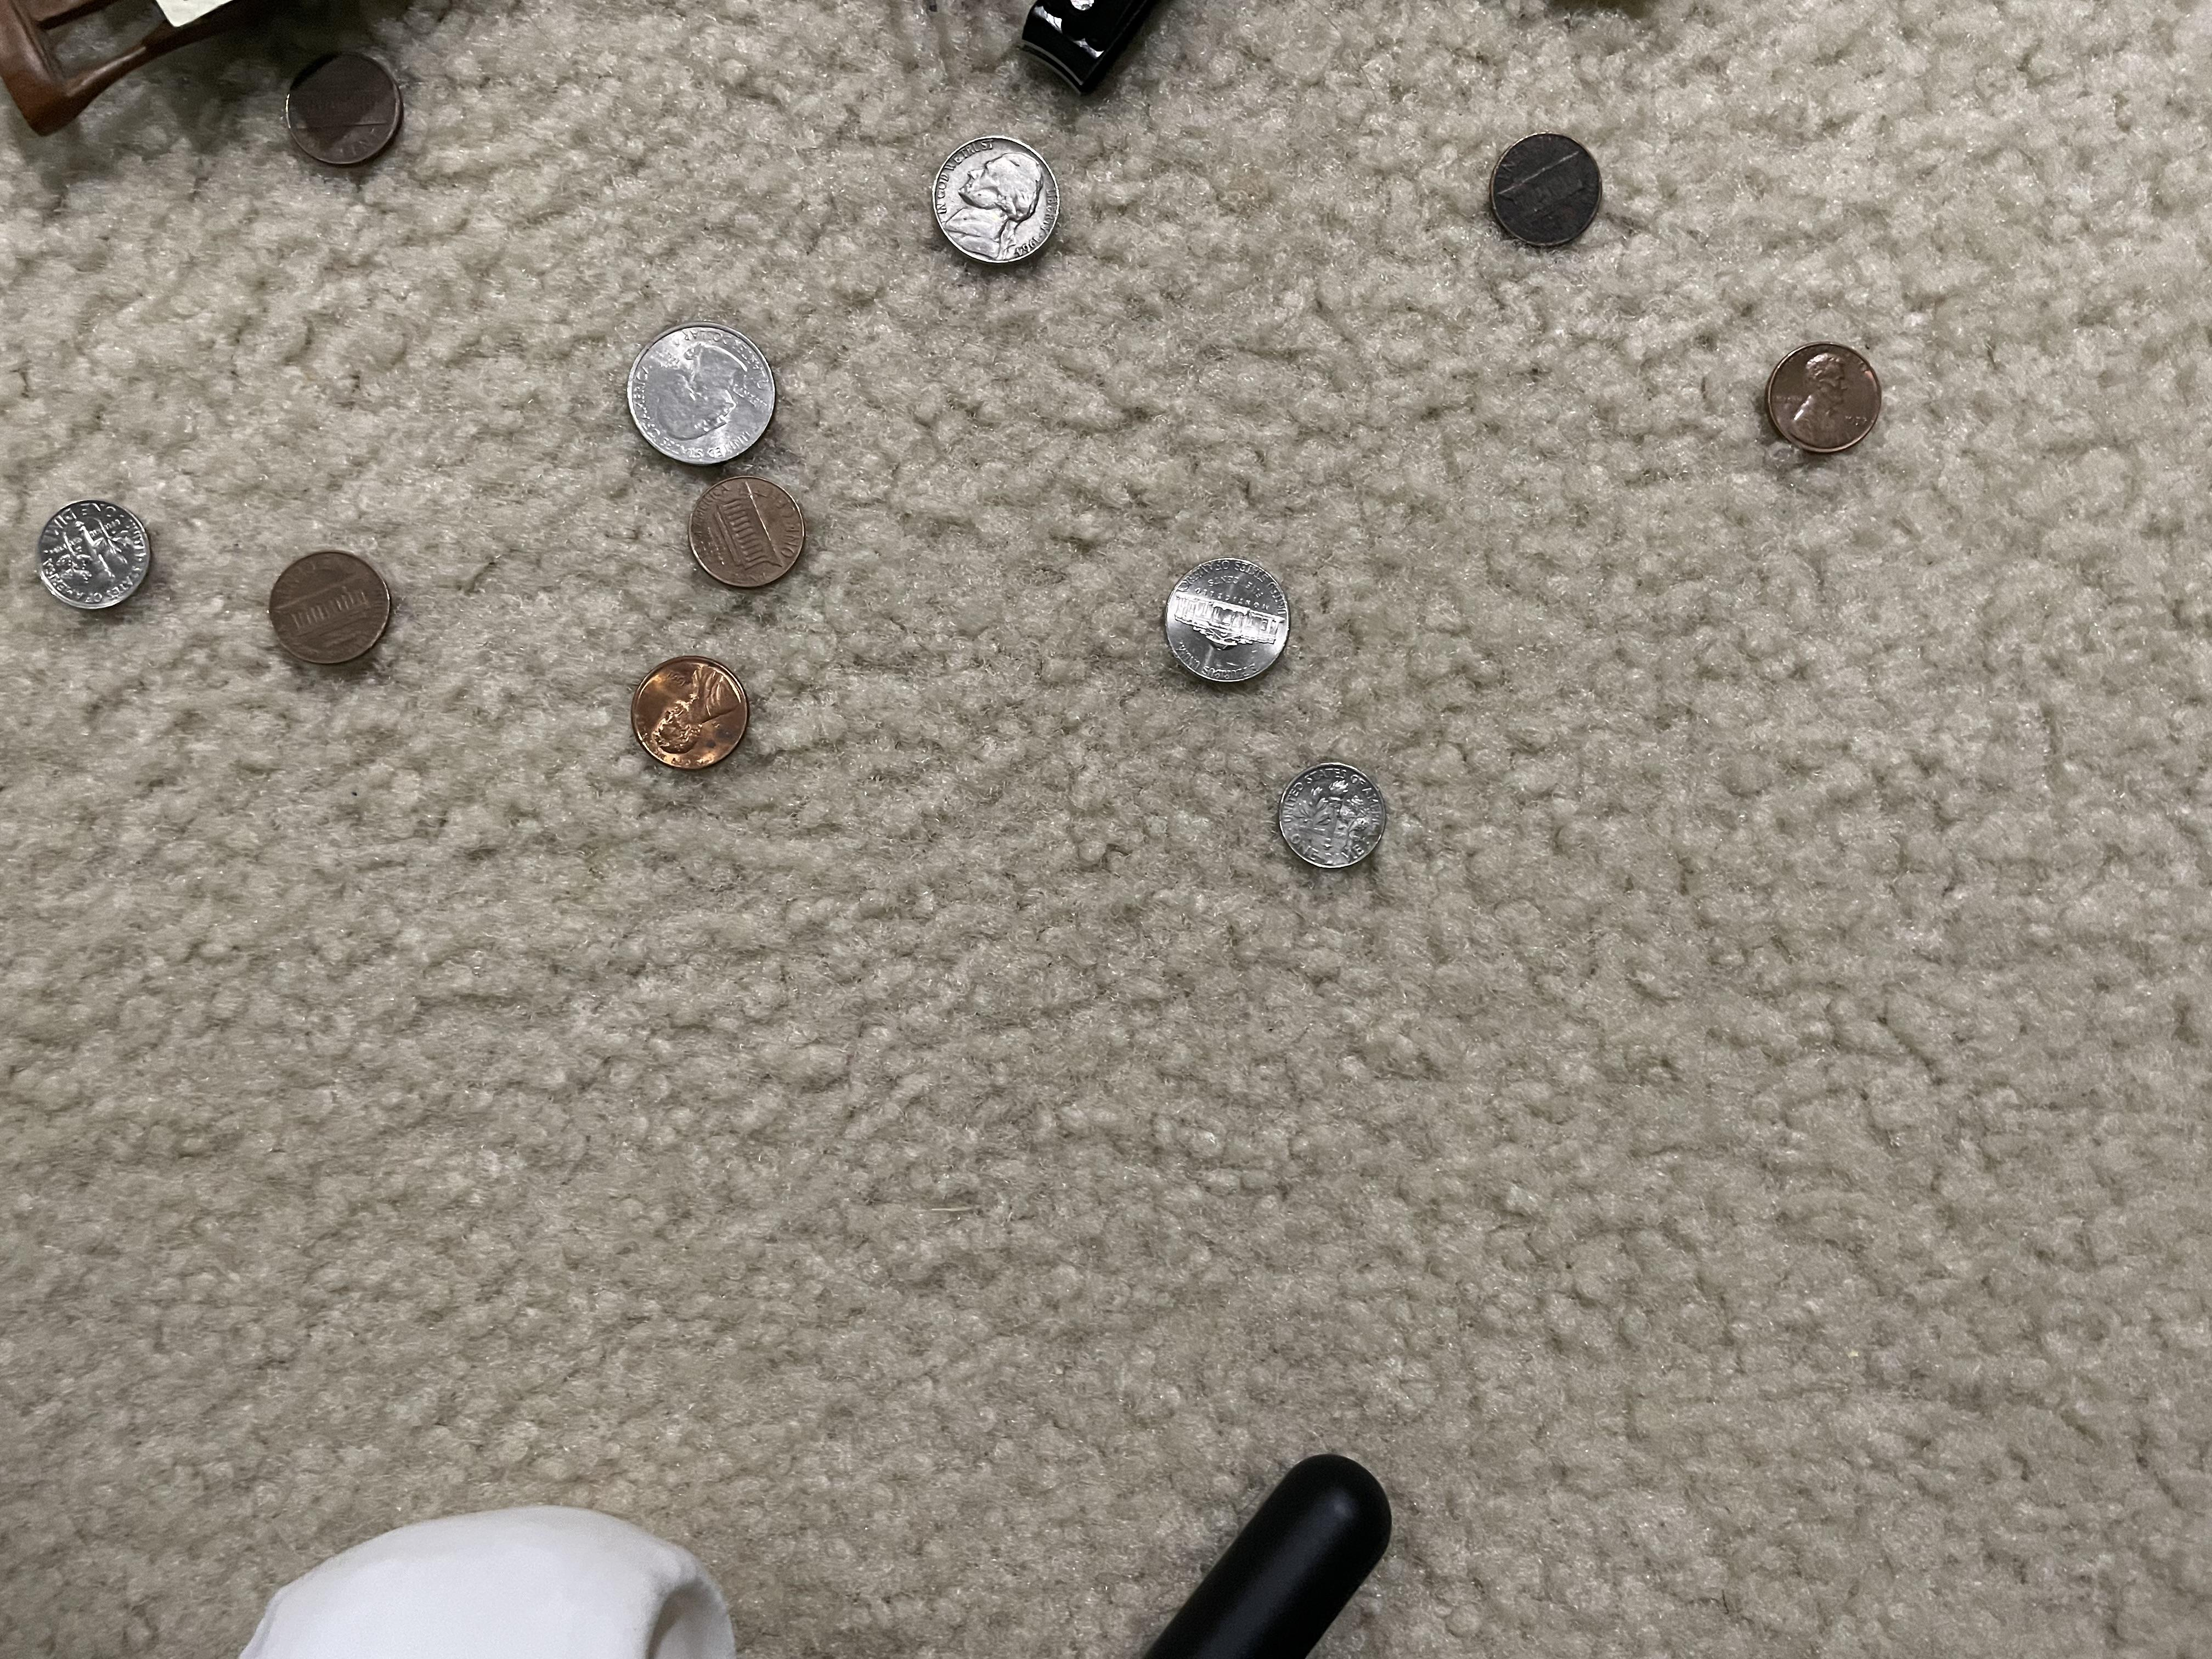Dime: (35, 486, 171, 615), (1270, 758, 1400, 877)
Nickel: (914, 131, 1076, 279), (1151, 554, 1310, 697)
Penny: (1752, 331, 1921, 467), (254, 538, 406, 680), (1477, 127, 1627, 261), (270, 49, 409, 183), (622, 650, 754, 782), (665, 476, 817, 587)
Quarter: (622, 315, 779, 460)
